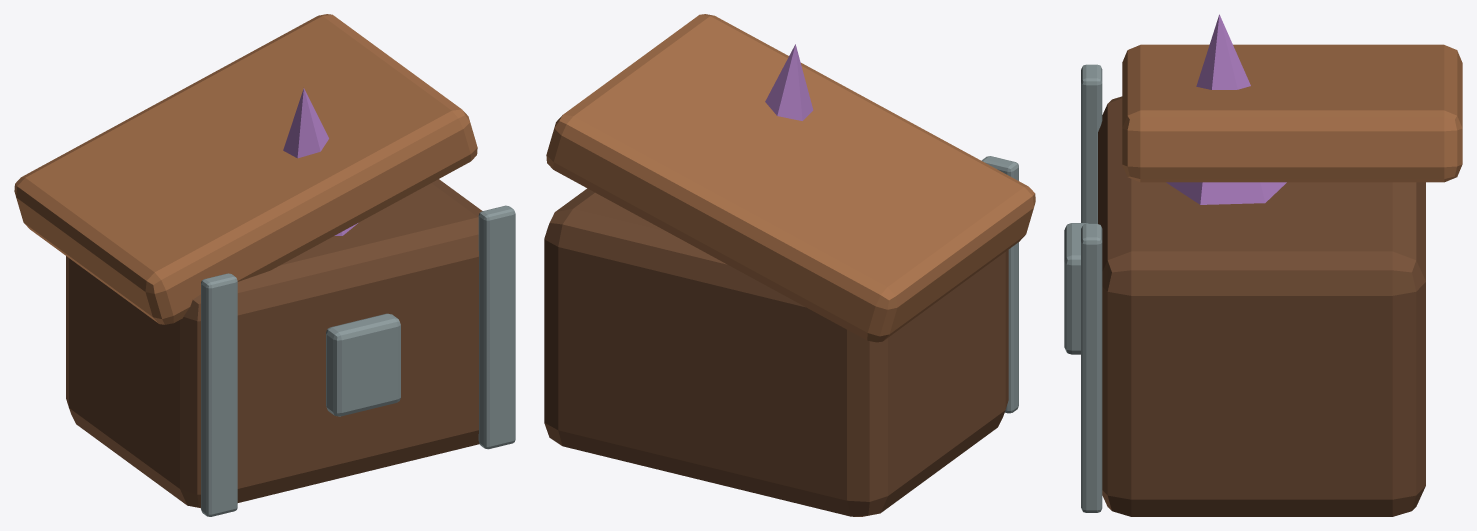
The model's file is economy_cargo_gems_v01.glb.
3 views of the same model, side by side, from view 1: azimuth 30°, elevation 25°; view 2: azimuth 150°, elevation 25°; view 3: azimuth 270°, elevation 25° (orthographic). The views are drawn at different scales.
Visible parts, largest first — view 1: GEO_GemCasket, GEO_GemCasketLid, GEO_GemCasketBand.001, GEO_GemCasketBand, GEO_GemCasketLock, GEO_GemCargoCrystal; view 2: GEO_GemCasket, GEO_GemCasketLid, GEO_GemCasketBand, GEO_GemCargoCrystal; view 3: GEO_GemCasket, GEO_GemCasketLid, GEO_GemCasketBand.001, GEO_GemCargoCrystal, GEO_GemCasketBand, GEO_GemCasketLock.
Part boxes in pixels (bbox=[...]): GEO_GemCasket: bbox=[66, 179, 482, 508]; GEO_GemCasketLid: bbox=[14, 14, 477, 324]; GEO_GemCasketBand.001: bbox=[478, 205, 515, 449]; GEO_GemCasketBand: bbox=[201, 273, 237, 516]; GEO_GemCasketLock: bbox=[326, 313, 400, 416]; GEO_GemCargoCrystal: bbox=[283, 88, 357, 235]; GEO_GemCasket: bbox=[544, 188, 1008, 516]; GEO_GemCasketLid: bbox=[546, 14, 1035, 342]; GEO_GemCasketBand: bbox=[981, 156, 1018, 413]; GEO_GemCargoCrystal: bbox=[765, 44, 813, 120]; GEO_GemCasket: bbox=[1098, 96, 1425, 516]; GEO_GemCasketLid: bbox=[1122, 44, 1462, 182]; GEO_GemCasketBand.001: bbox=[1081, 223, 1102, 512]; GEO_GemCargoCrystal: bbox=[1166, 14, 1286, 204]; GEO_GemCasketBand: bbox=[1081, 64, 1102, 223]; GEO_GemCasketLock: bbox=[1064, 223, 1088, 354].
Bounding box in the file's own units: 0.7887 × 0.7688 × 0.655.
